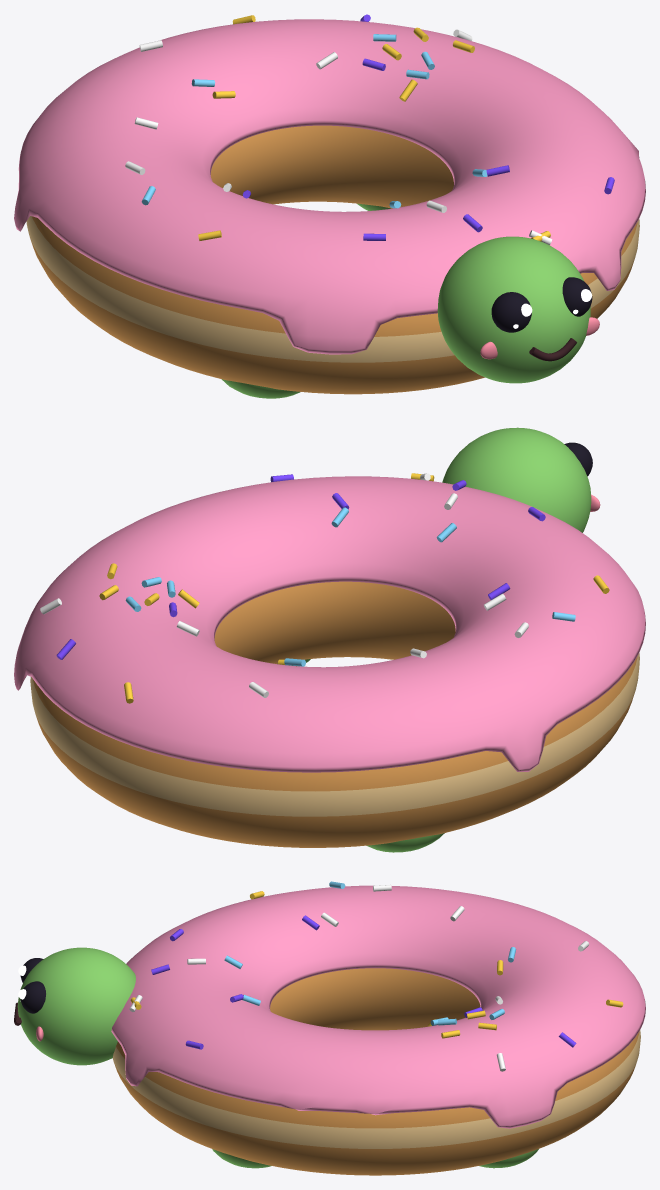
File: pilot_skilpadde_smultring.glb
3 renders of one model, top to bottom at view 1: azimuth 30°, elevation 25°; view 2: azimuth 150°, elevation 25°; view 3: azimuth 270°, elevation 25°, orthographic. The views are drawn at different scales.
Parts seen in each view (by area): view 1: kropp, hode, bein_vf; view 2: kropp, hode, bein_vb; view 3: kropp, hode.
Part boxes in pixels (left/top/right/bottom): kropp: left=14, top=14, right=645, bottom=394; hode: left=437, top=236, right=599, bottom=383; bein_vf: left=221, top=379, right=300, bottom=398; kropp: left=14, top=473, right=645, bottom=847; hode: left=442, top=427, right=600, bottom=532; bein_vb: left=366, top=833, right=444, bottom=852; kropp: left=111, top=881, right=645, bottom=1175; hode: left=14, top=947, right=135, bottom=1065.
Size of the model in its own units: 1.79 by 0.61 by 2.27.
